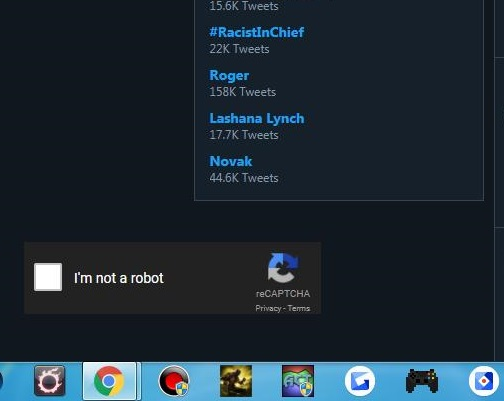captcha: (33, 262, 165, 291)
